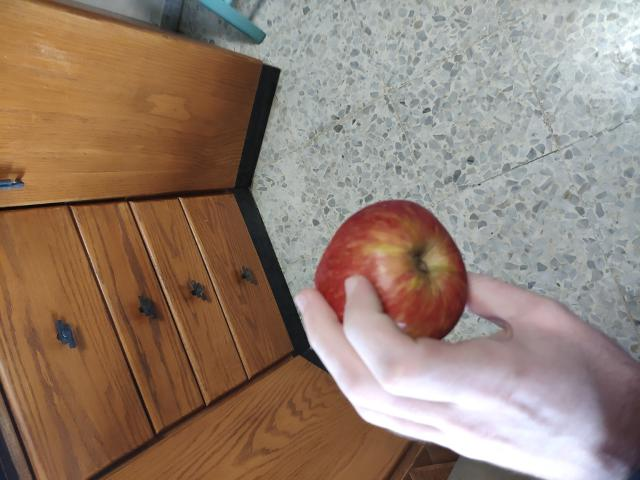apple: (294, 196, 476, 366)
